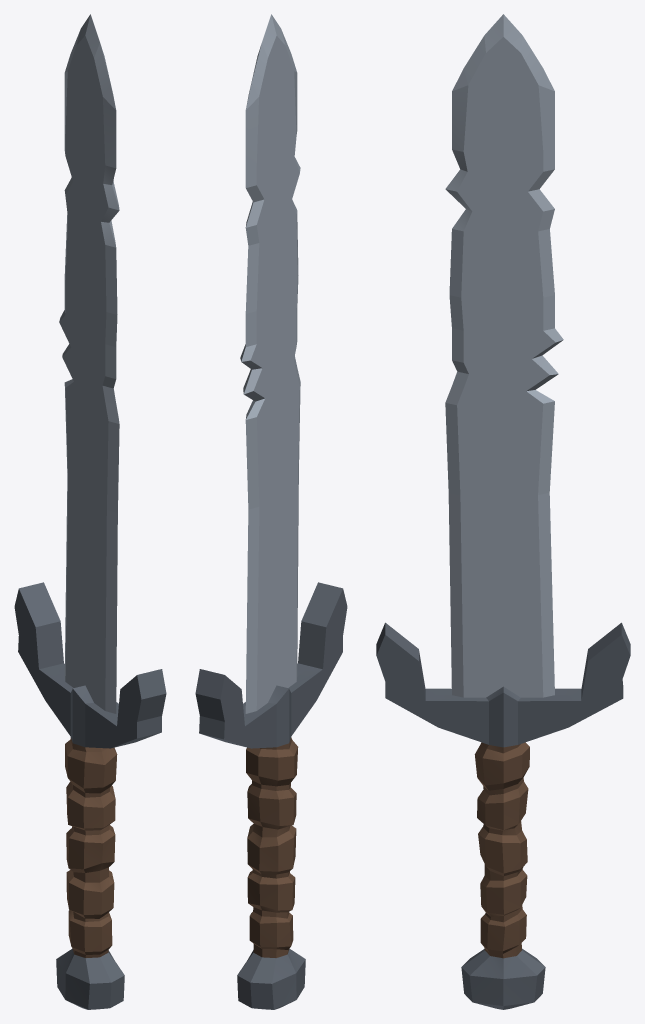
The model's file is sword.dae.
The picture shows the model from 3 angles, left to right: view 1: azimuth 30°, elevation 25°; view 2: azimuth 150°, elevation 25°; view 3: azimuth 270°, elevation 25°; orthographic projection.
Parts seen in each view (by area): view 1: sword; view 2: sword; view 3: sword.
Boxes of the visible parts, box(x1,y1,x2,y2) form: sword: box(14, 14, 166, 1009); sword: box(195, 14, 347, 1009); sword: box(376, 14, 630, 1009).
Size of the model in its own units: 0.0531 by 0.2321 by 1.
